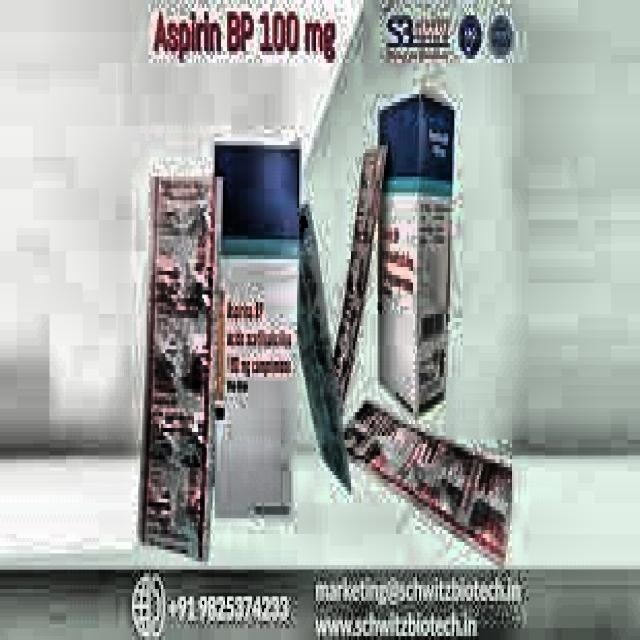Aspirin: (143, 2, 353, 82)
